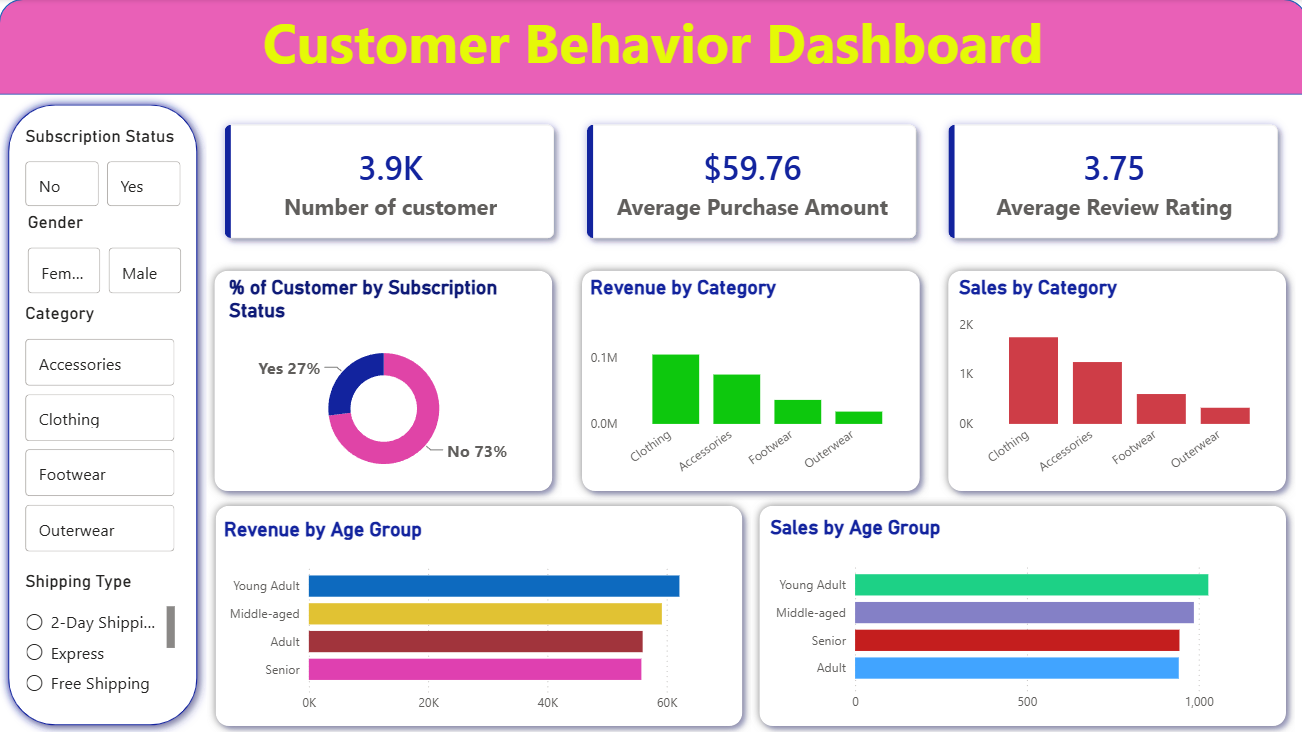

The dashboard page shown, as its layout file describes it:
{"tool":"powerbi","page":{"name":"Page 1","canvas":[1280,720],"ordinal":0},"visuals":[{"type":"cardVisual","fields":{"Data":["public customer.Number of customer","public customer.Average Purchase Amount","public customer.Average Review Rating"]},"box":[192,94.2,1088.3,170],"z":0},{"type":"shape","box":[0,0,1280,93.8],"z":1000},{"type":"textbox","box":[0,0,1280,93.8],"z":2000},{"type":"shape","box":[561.3,256.8,348.5,233.6],"z":3000},{"type":"clusteredColumnChart","title":"Revenue by Category","fields":{"Category":["public customer.category"],"Y":["Sum(public customer.purchase_amount)"]},"box":[573.5,271.5,321.6,204.2],"z":4000},{"type":"shape","box":[201.8,256.8,348.5,233.6],"z":5000},{"type":"shape","box":[919.6,256.8,348.5,233.6],"z":6000},{"type":"donutChart","title":"% of Customer by Subscription Status","fields":{"Category":["public customer.subscription_status"],"Y":["CountNonNull(public customer.customer_id)"]},"box":[220.1,271.5,313,204.2],"z":7000},{"type":"clusteredColumnChart","title":"Sales by Category","fields":{"Category":["public customer.category"],"Y":["CountNonNull(public customer.customer_id)"]},"box":[934.2,271.5,321.6,204.2],"z":8000},{"type":"shape","box":[0,94.8,203,625.4],"z":9000},{"type":"advancedSlicerVisual","fields":{"Values":["public customer.subscription_status"]},"box":[20.8,123.5,162.6,84.4],"z":10000},{"type":"advancedSlicerVisual","fields":{"Values":["public customer.gender"]},"box":[23.2,207.9,160.2,85.6],"z":11000},{"type":"advancedSlicerVisual","fields":{"Values":["public customer.category"]},"box":[20.8,297.1,156.5,250.7],"z":12000},{"type":"listSlicer","fields":{"Values":["public customer.shipping_type"]},"box":[20.8,558.8,156.5,127.2],"z":13000},{"type":"shape","box":[203,486.7,533.2,233.6],"z":15000},{"type":"clusteredBarChart","title":"Revenue by Age Group","fields":{"Category":["public customer.age_group"],"Y":["Sum(public customer.purchase_amount)"]},"box":[220.1,507.5,501.4,194.4],"z":15500},{"type":"shape","box":[734.9,486.7,533.2,233.6],"z":15501},{"type":"clusteredBarChart","title":"Sales by Age Group","fields":{"Category":["public customer.age_group"],"Y":["CountNonNull(public customer.customer_id)"]},"box":[754.5,506.3,501.4,194.4],"z":15502}]}

Visuals, with their boxes in screenshot pixels (x1, y1, x2, y2), scaled from the page's 1280x720 canvas onto the 1302x732 screenshot:
cardVisual - public customer.Number of customer x public customer.Average Purchase Amount: x1=195 y1=96 x2=1301 y2=269
shape: x1=0 y1=0 x2=1301 y2=95
textbox: x1=0 y1=0 x2=1301 y2=95
shape: x1=571 y1=261 x2=925 y2=499
"Revenue by Category" clusteredColumnChart: x1=583 y1=276 x2=910 y2=484
shape: x1=205 y1=261 x2=560 y2=499
shape: x1=935 y1=261 x2=1290 y2=499
"% of Customer by Subscription Status" donutChart: x1=224 y1=276 x2=542 y2=484
"Sales by Category" clusteredColumnChart: x1=950 y1=276 x2=1277 y2=484
shape: x1=0 y1=96 x2=206 y2=731
advancedSlicerVisual - public customer.subscription_status: x1=21 y1=126 x2=187 y2=211
advancedSlicerVisual - public customer.gender: x1=24 y1=211 x2=187 y2=298
advancedSlicerVisual - public customer.category: x1=21 y1=302 x2=180 y2=557
listSlicer - public customer.shipping_type: x1=21 y1=568 x2=180 y2=697
shape: x1=206 y1=495 x2=749 y2=731
"Revenue by Age Group" clusteredBarChart: x1=224 y1=516 x2=734 y2=714
shape: x1=748 y1=495 x2=1290 y2=731
"Sales by Age Group" clusteredBarChart: x1=767 y1=515 x2=1277 y2=712
